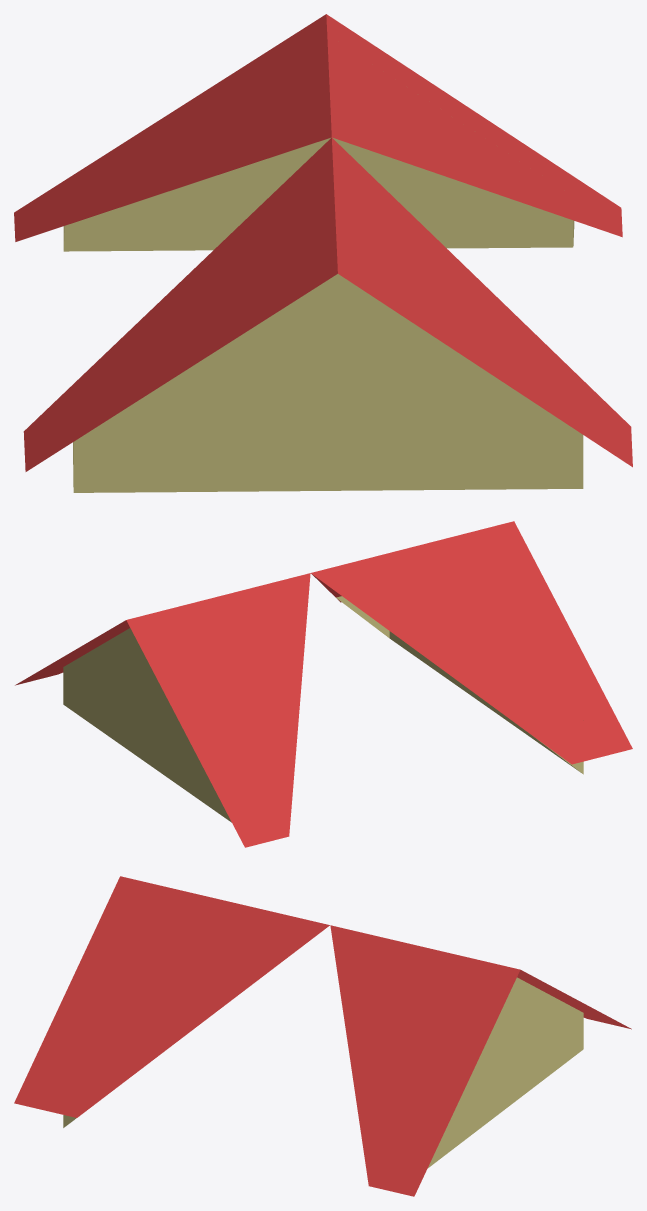
The picture shows the model from 3 angles, top to bottom: view 1: azimuth 30°, elevation 25°; view 2: azimuth 150°, elevation 25°; view 3: azimuth 270°, elevation 25°; orthographic projection. The views are drawn at different scales.
Size of the model in its own units: 12.71 by 12.76 by 4.02.
